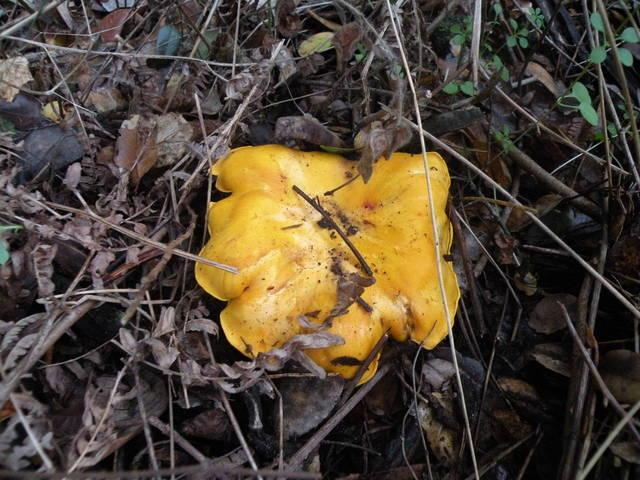edible_mushroom: (192, 142, 461, 386)
